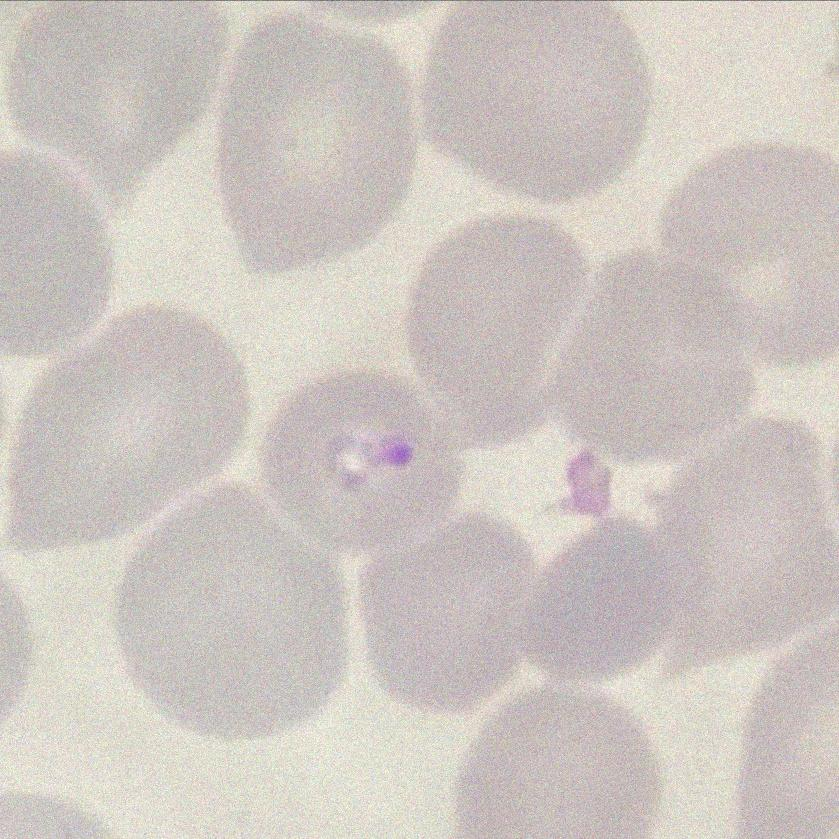Infected: (258, 367, 463, 543)
Uninfected: (0, 304, 247, 547), (114, 481, 346, 737), (215, 14, 419, 278), (645, 414, 839, 672), (418, 0, 651, 200), (2, 0, 226, 203), (405, 210, 587, 449), (555, 247, 757, 456), (658, 140, 839, 371), (360, 502, 535, 712), (450, 685, 665, 839), (518, 517, 670, 680)
